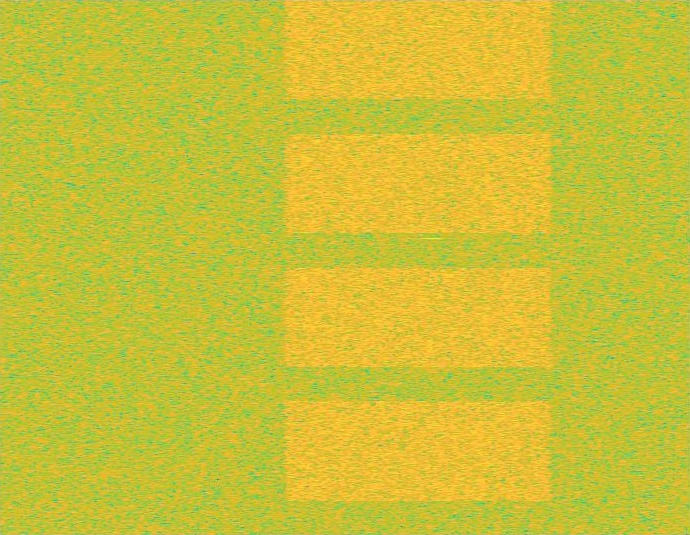5G: (280, 0, 556, 534)
Radar: (425, 0, 439, 534)
